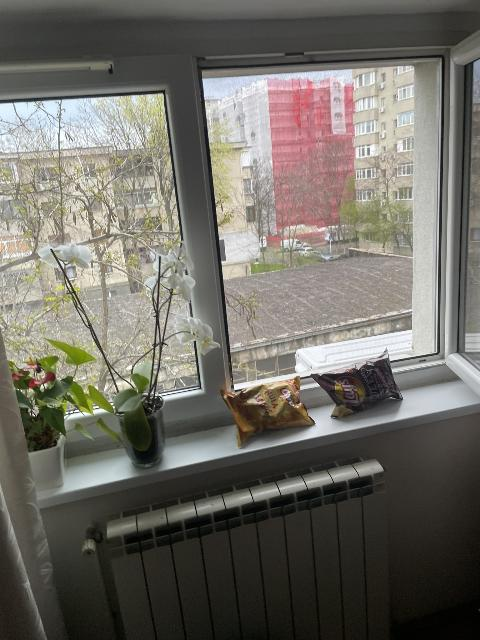Chio Hula Hoops Cheese 70g: (221, 376, 315, 447)
Lays Beef Grilled Ribs 125g: (312, 349, 402, 417)
